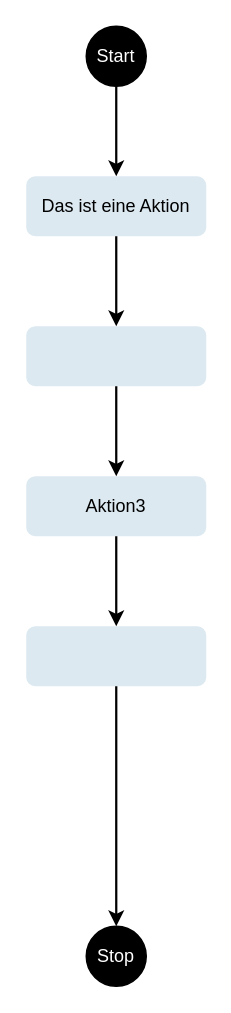
This 231x1013 diagram has some shape labels left out. The shapes that lost their labels are listed below. From the top down, each one's box as (x1, y1, x2, y2) in pixels, then its label:
(26, 326, 206, 386): Und das ist eine andere Aktion
(26, 626, 206, 686): Aktion4
